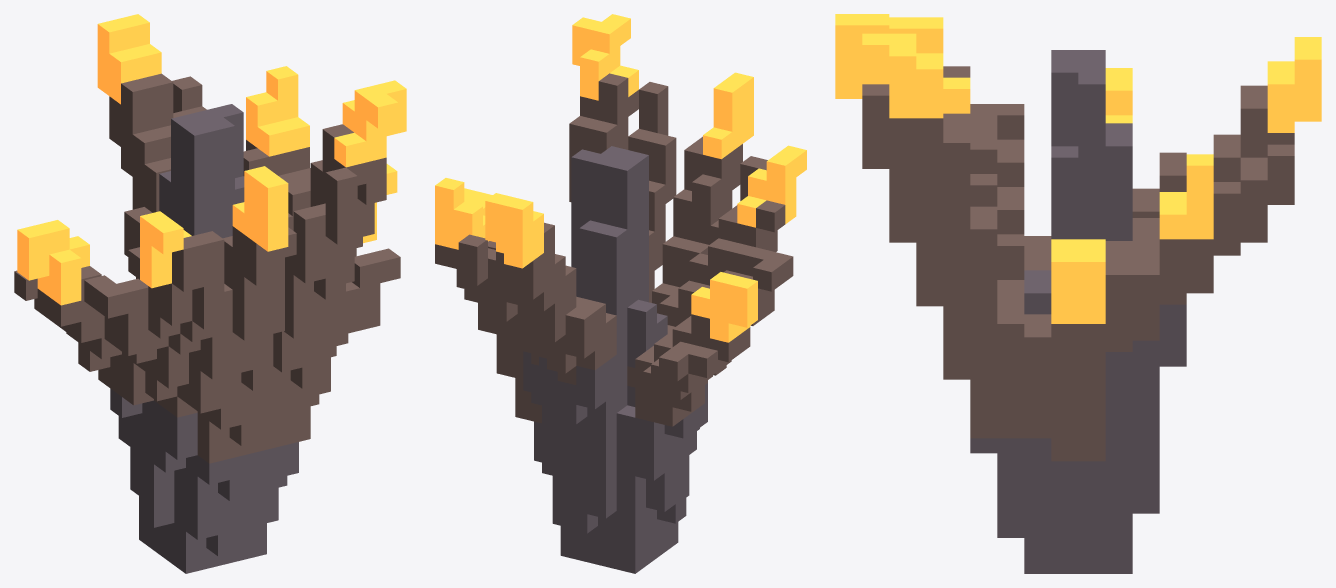
Rendered from charred_sapling.glb.
3 renders of one model, left to right at view 1: azimuth 30°, elevation 25°; view 2: azimuth 150°, elevation 25°; view 3: azimuth 270°, elevation 25°, orthographic. The views are drawn at different scales.
Size of the model in its own units: 0.7083 by 0.9583 by 0.75.
